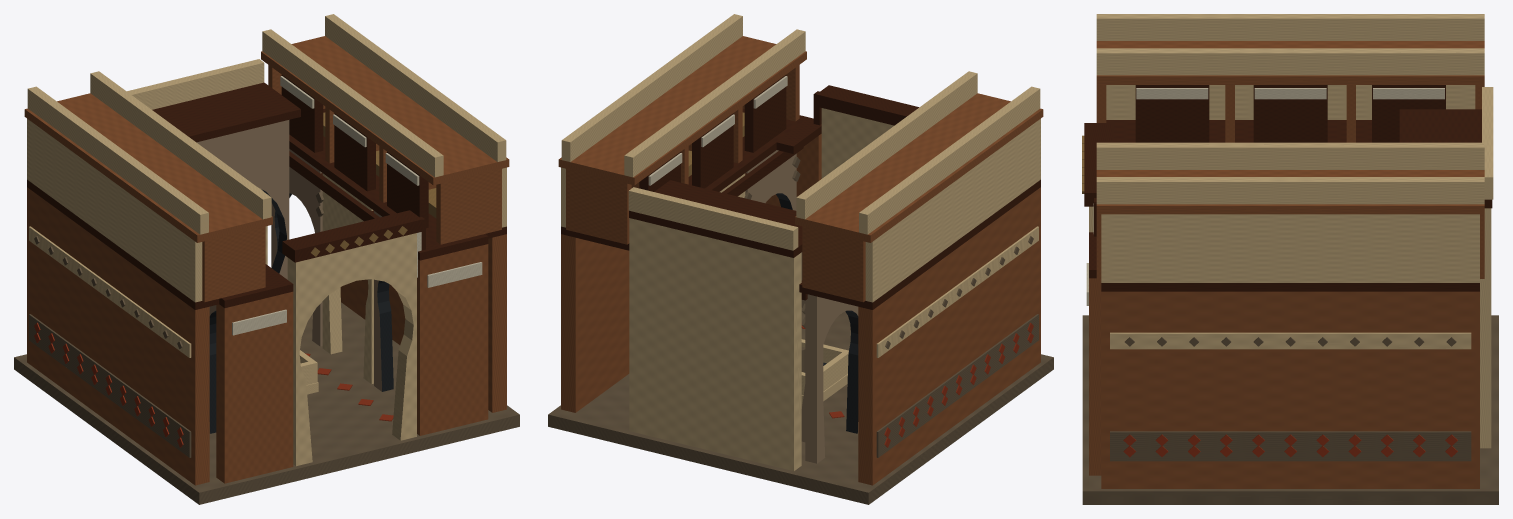
Rendered from Berber_Fez_Age4.fbx.
3 views of the same model, side by side, from view 1: azimuth 30°, elevation 25°; view 2: azimuth 150°, elevation 25°; view 3: azimuth 270°, elevation 25° (orthographic). The views are drawn at different scales.
Visible parts, largest first — view 1: west_outer_wall, scholar_court_foundation, front_guest_cell_wall, front_guest_cell_wall.001, west_student_rear_wall, carved_main_portal, west_cell_roof, east_cell_roof, west_lime_parapet, west_lime_parapet.001, east_lime_parapet.001, east_lime_parapet (+23 smaller); view 2: teaching_hall_rear, west_outer_wall, scholar_court_foundation, west_student_rear_wall, east_outer_wall, west_cell_roof, east_cell_roof, west_lime_parapet, west_lime_parapet.001, east_lime_parapet.001, east_lime_parapet, west_hollow_arcade.002 (+18 smaller); view 3: east_outer_wall, east_student_rear_wall, east_lime_parapet, east_lime_parapet.001, west_lime_parapet, west_lime_parapet.001, scholar_court_foundation, east_exterior_geometric_dado, east_cell_roof, west_cell_roof, east_exterior_carved_plaster_course, west_student_rear_wall (+15 smaller).
Boxes of the visible parts, x1,y1,x2,y2 form: west_outer_wall: (27,187,209,485); scholar_court_foundation: (14,302,519,504); front_guest_cell_wall: (216,291,293,483); front_guest_cell_wall.001: (417,244,488,435); west_student_rear_wall: (27,118,202,302); carved_main_portal: (287,233,416,466); west_cell_roof: (24,93,272,242); east_cell_roof: (261,36,509,185); west_lime_parapet: (90,71,271,219); west_lime_parapet.001: (27,86,208,234); east_lime_parapet.001: (325,14,506,161); east_lime_parapet: (262,29,443,177); teaching_hall_rear: (629,218,801,470); west_outer_wall: (858,187,1040,485); scholar_court_foundation: (548,307,1053,504); west_student_rear_wall: (865,118,1040,302); east_outer_wall: (561,234,629,412); west_cell_roof: (795,93,1043,242); east_cell_roof: (558,36,806,185); west_lime_parapet: (796,71,977,219); west_lime_parapet.001: (859,86,1040,234); east_lime_parapet.001: (561,14,742,161); east_lime_parapet: (624,29,805,177); west_hollow_arcade.002: (805,294,858,463); east_outer_wall: (1101,291,1479,488); east_student_rear_wall: (1101,214,1479,282); east_lime_parapet: (1096,142,1484,169); east_lime_parapet.001: (1096,177,1484,204); west_lime_parapet: (1096,48,1484,75); west_lime_parapet.001: (1096,14,1484,40); scholar_court_foundation: (1082,315,1498,504); east_exterior_geometric_dado: (1110,431,1471,461); east_cell_roof: (1096,170,1484,214); west_cell_roof: (1096,41,1484,84); east_exterior_carved_plaster_course: (1110,332,1471,349); west_student_rear_wall: (1106,85,1475,119).
Bounding box in the file's own units: 440 × 372 × 440.
Materials: 8 (8 with a texture image).
